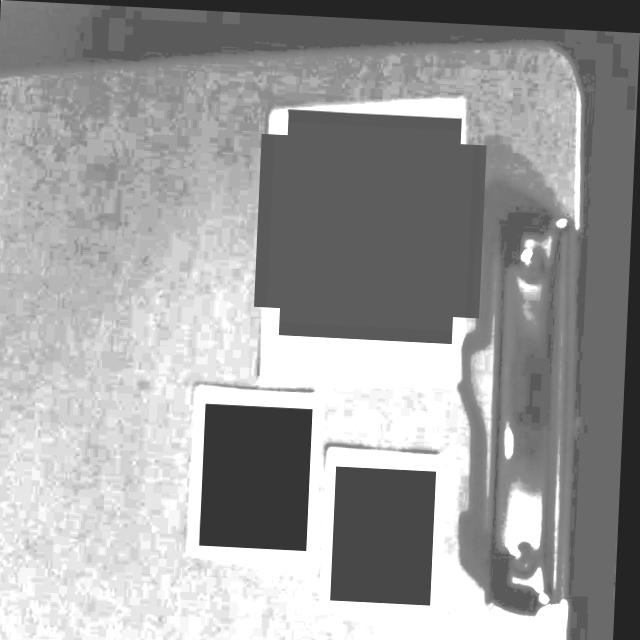qr_code: (268, 118, 474, 326), (203, 401, 315, 547), (335, 462, 439, 601)
